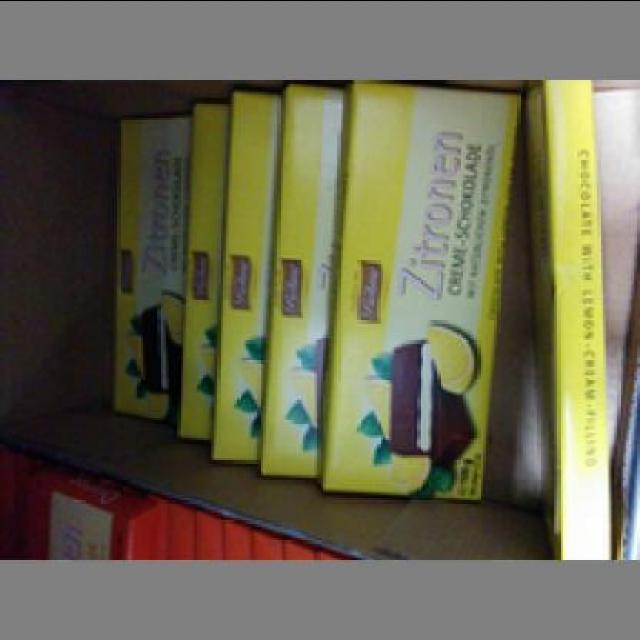Chocolate bar: (317, 87, 517, 510), (104, 114, 188, 426)
